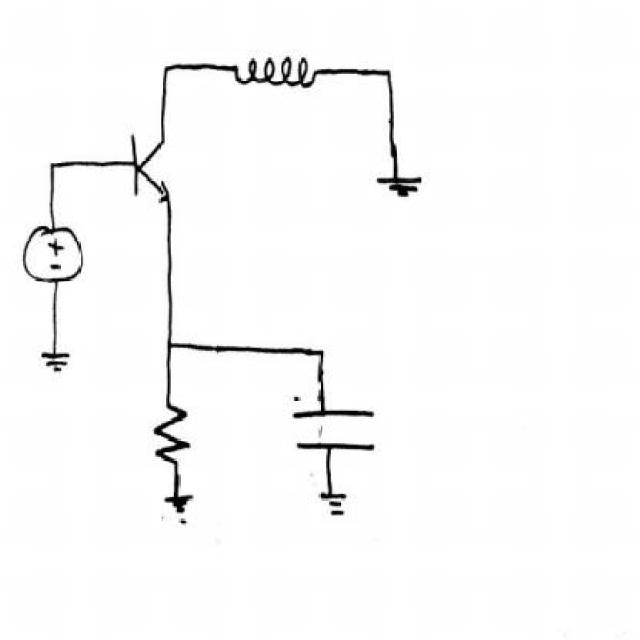capacitor: (284, 399, 386, 461)
ground: (36, 324, 91, 410), (308, 482, 377, 530), (166, 482, 220, 540), (372, 164, 439, 208)
inductor: (229, 38, 326, 98)
resistor: (139, 394, 204, 467)
transistor: (120, 120, 187, 213)
voltage_source: (14, 218, 90, 293)
